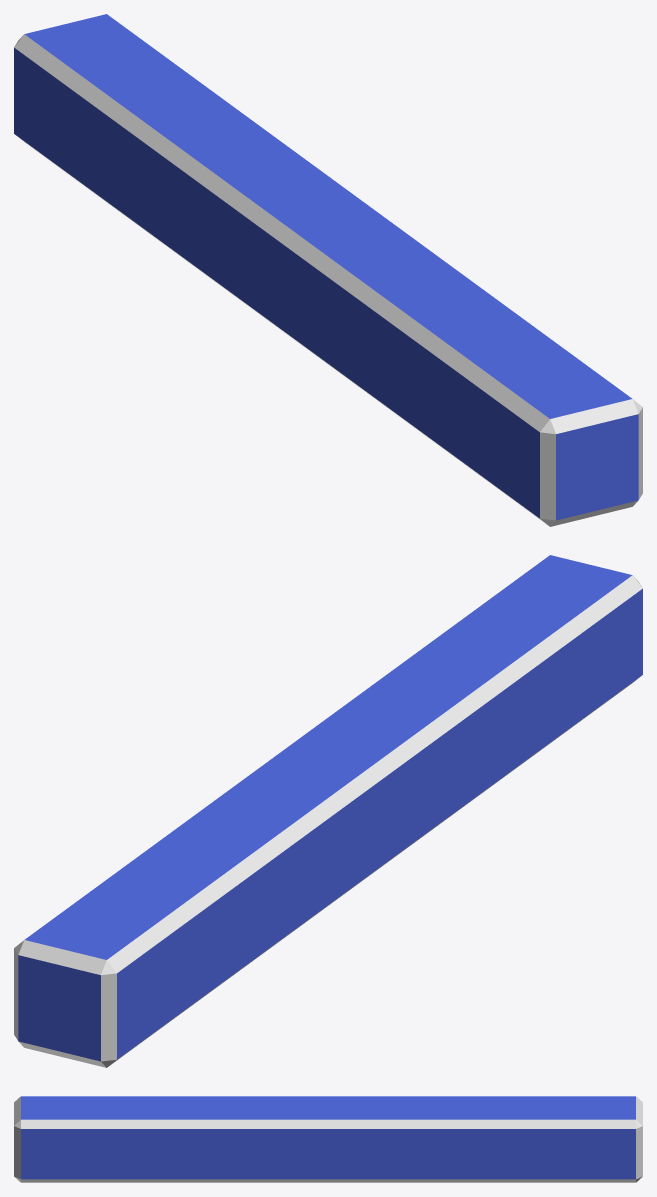
File: Zid 1x9.fbx
3 renders of one model, top to bottom at view 1: azimuth 30°, elevation 25°; view 2: azimuth 150°, elevation 25°; view 3: azimuth 270°, elevation 25°, orthographic. The views are drawn at different scales.
Parts seen in each view (by area): view 1: Cube.017; view 2: Cube.017; view 3: Cube.017.
Boxes of the visible parts, bbox=[...] form: Cube.017: bbox=[14, 14, 642, 526]; Cube.017: bbox=[14, 555, 642, 1067]; Cube.017: bbox=[14, 1096, 642, 1182].
Size of the model in its own units: 1 by 1 by 9.03.
